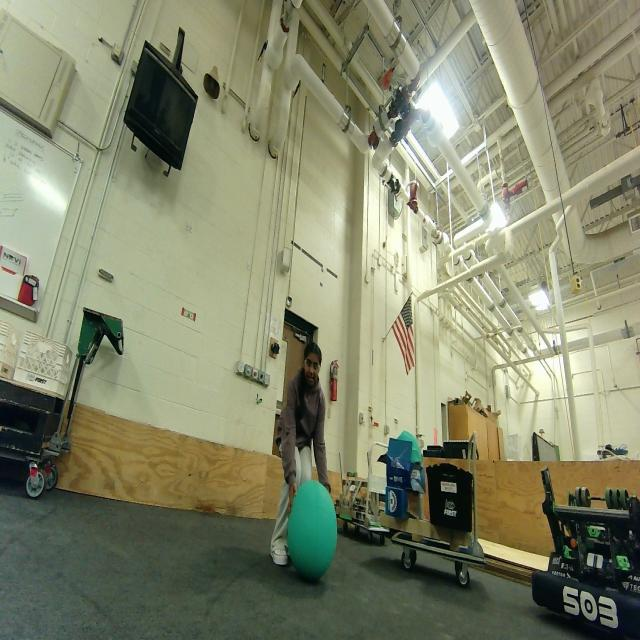algae: (285, 479, 343, 578)
